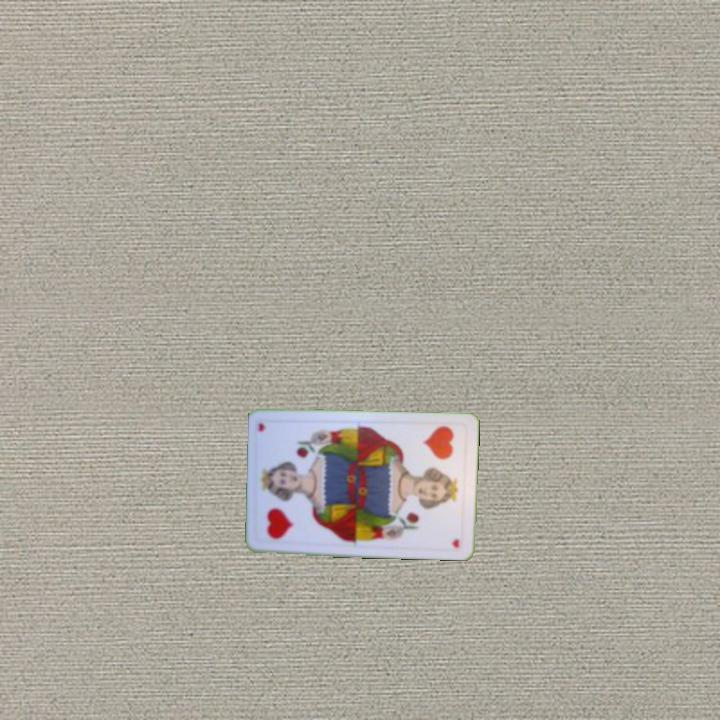h_q.png: (254, 478, 314, 546), (409, 421, 469, 489)
